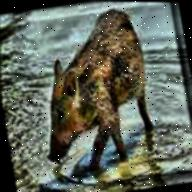boar: (22, 0, 192, 174)
